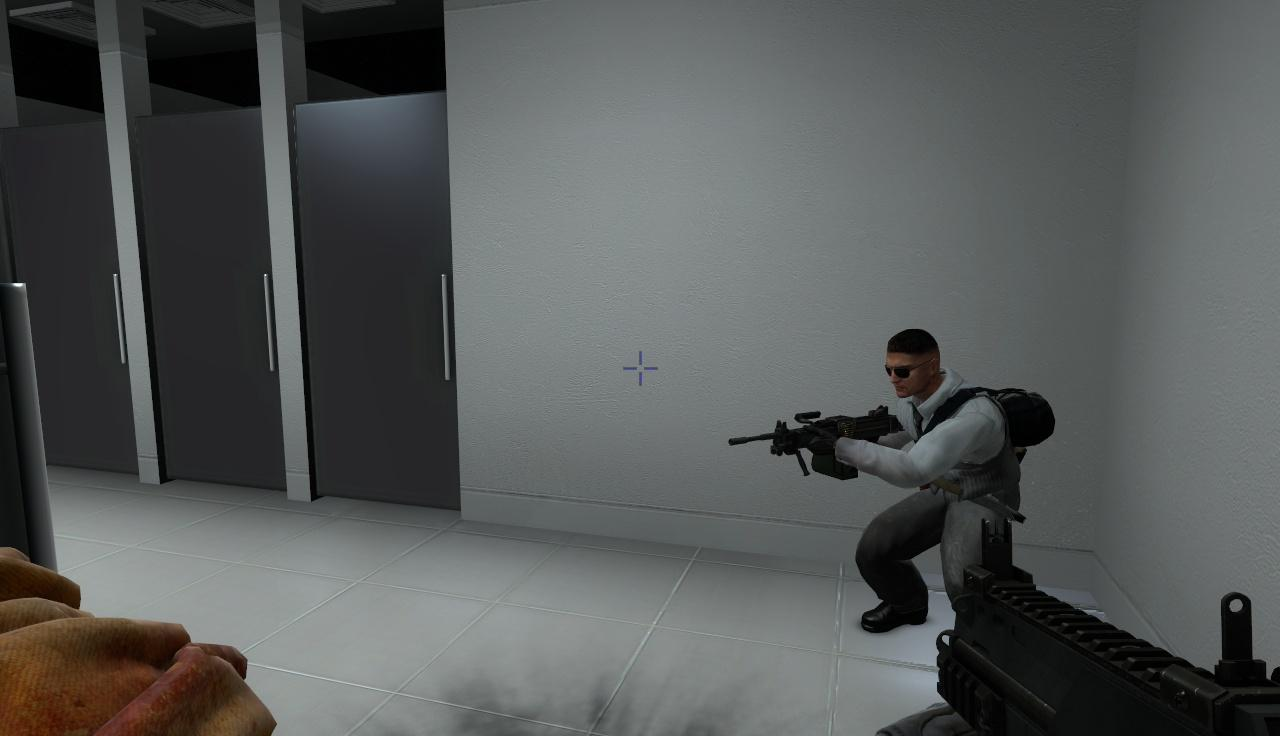rifle: (938, 522, 1280, 736)
tt: (864, 327, 1015, 516)
tthead: (884, 328, 941, 399)
